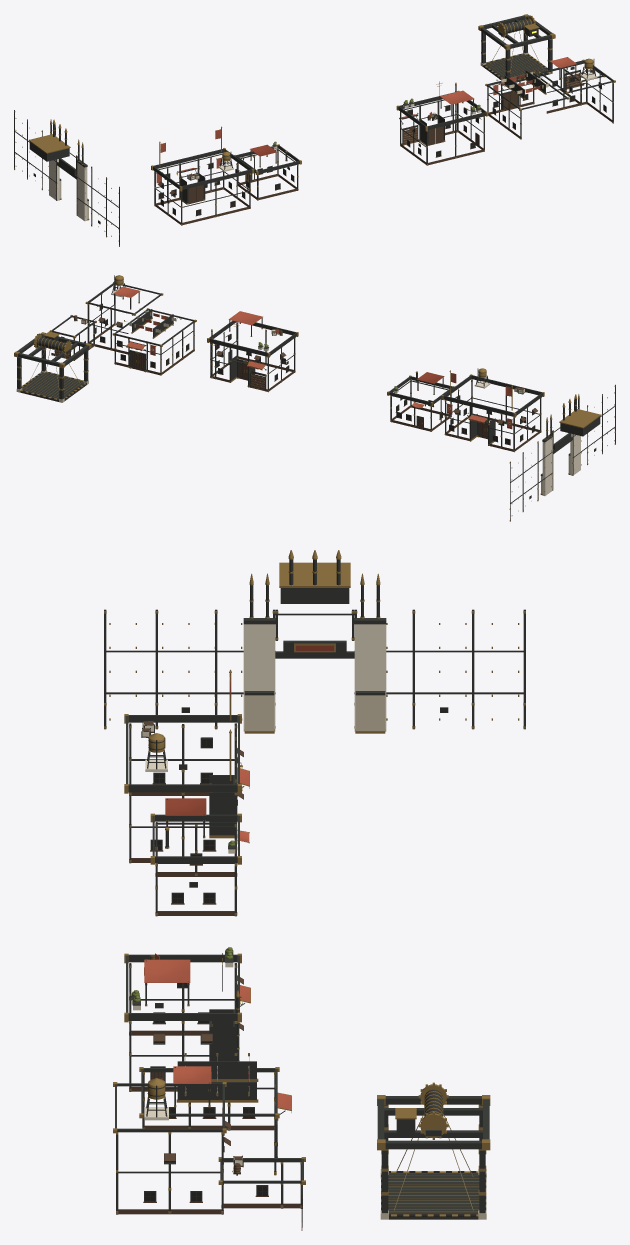
Rendered from lower_set.glb.
3 views of the same model, one above another, from view 1: azimuth 30°, elevation 25°; view 2: azimuth 150°, elevation 25°; view 3: azimuth 270°, elevation 25° (orthographic). The views are drawn at different scales.
Visible parts, largest first — view 1: lower_set; view 2: lower_set; view 3: lower_set.
Boxes of the visible parts, x1=… form: lower_set: x1=14, y1=14, x2=615, y2=246; lower_set: x1=14, y1=275, x2=615, y2=521; lower_set: x1=104, y1=550, x2=525, y2=1230.
Bounding box in the file's own units: 95.26 × 14.4 × 32.02.
